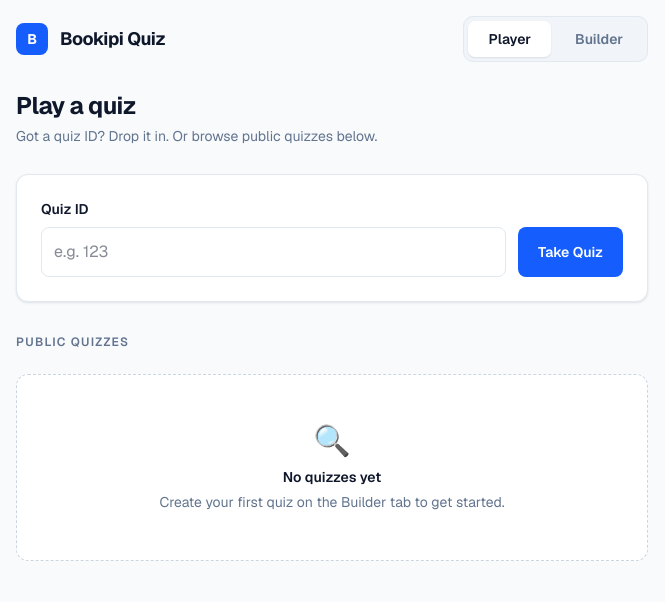
Test: HomePage › shows a validation error for an invalid quiz ID
Type "abc" into the field labelled "Quiz ID" at point(274, 252), box [41,227,506,277]
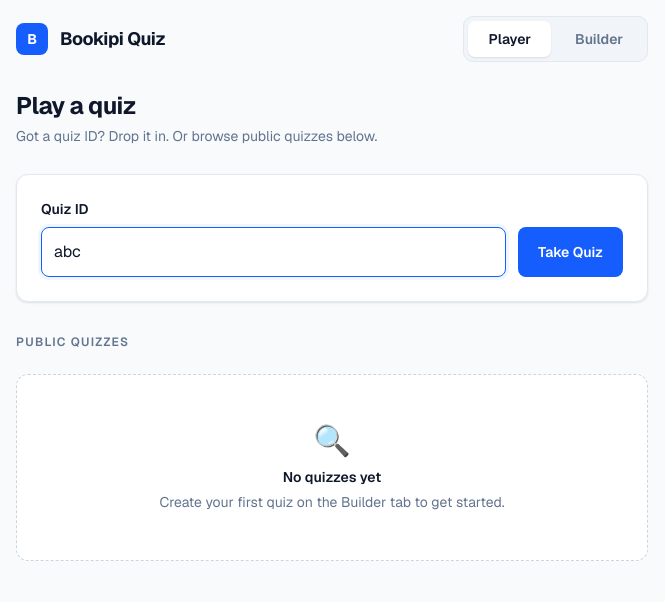
Click the button "Take Quiz" at point(570, 252), box [518,227,623,277]
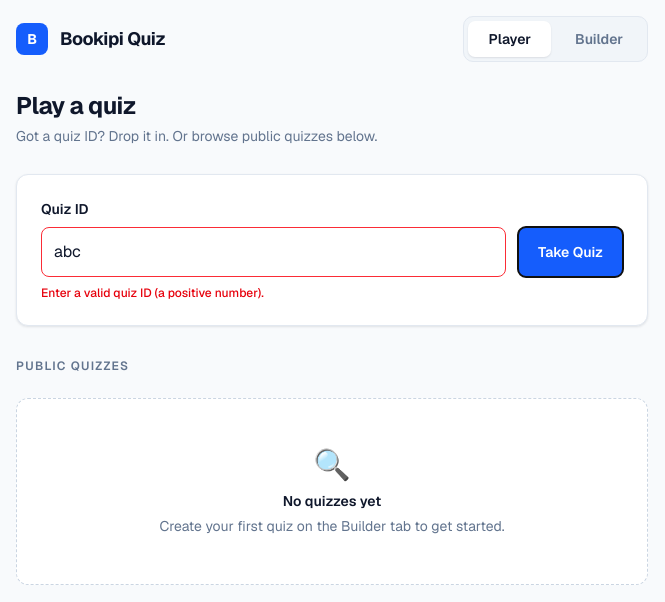
expect the text "Enter a valid quiz ID (a positive number)." is shown: met, box [41,285,264,301]
